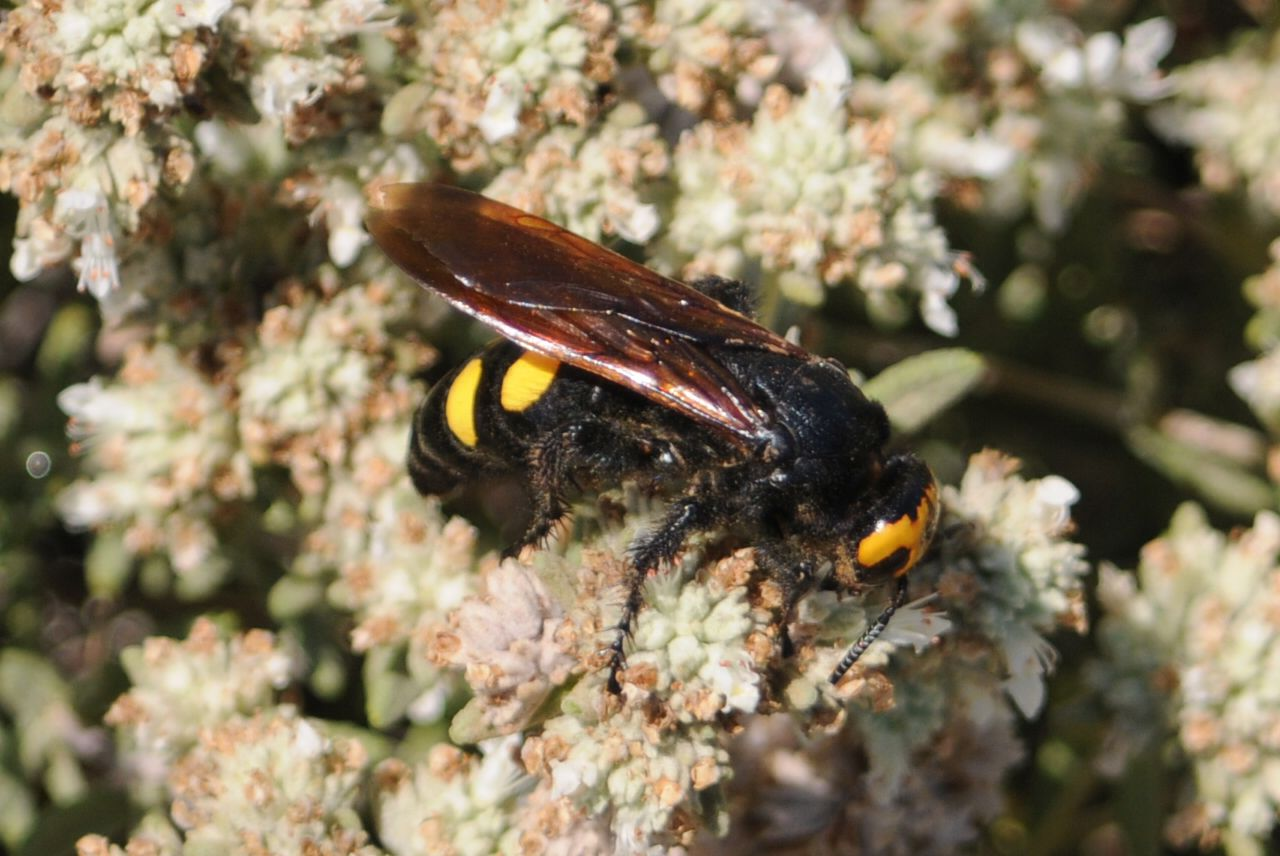Megascolia bidens: (226, 162, 1054, 706)
